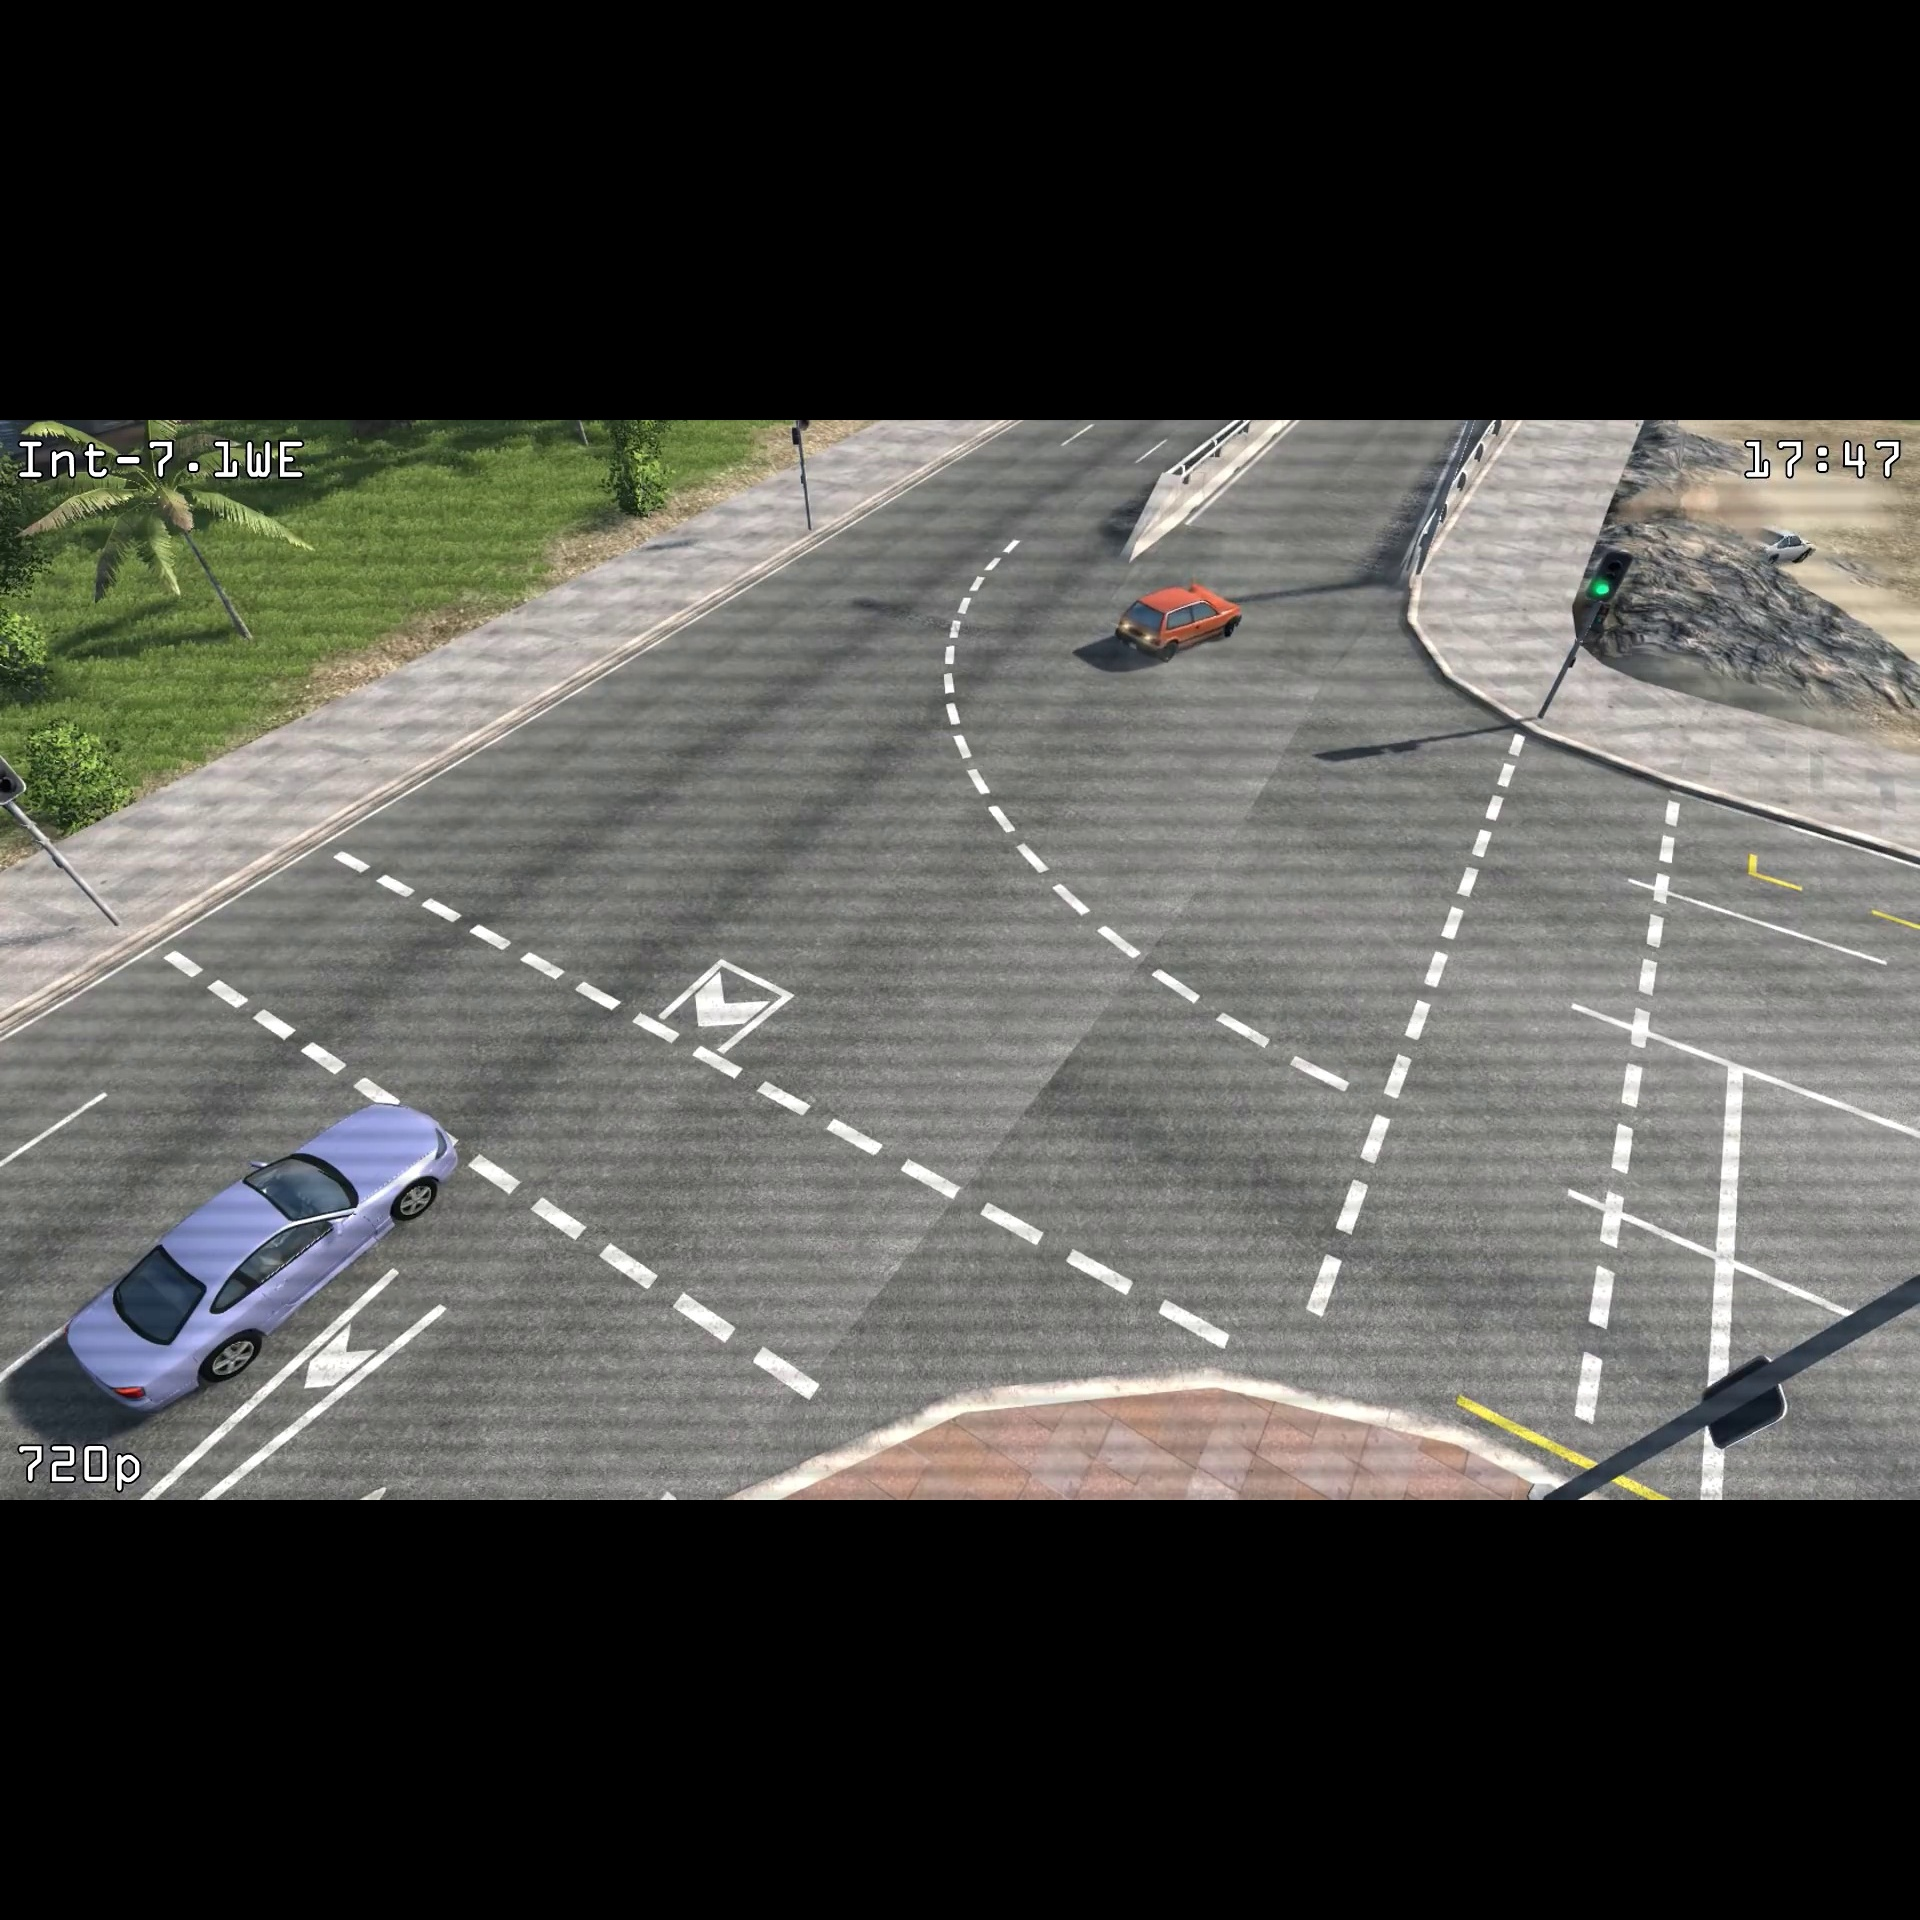vehicle: (56, 1094, 469, 1429), (1111, 580, 1245, 666)
